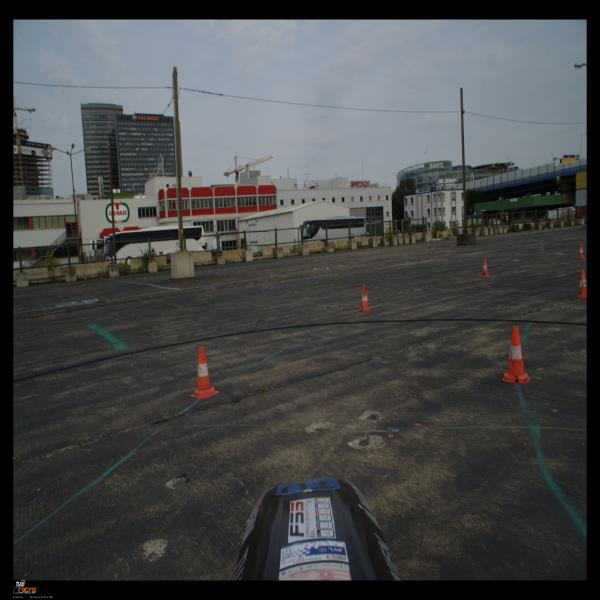orange_cone: (501, 326, 531, 384), (189, 346, 220, 399), (358, 285, 372, 312), (576, 269, 586, 299), (479, 259, 490, 278), (576, 244, 586, 259)
